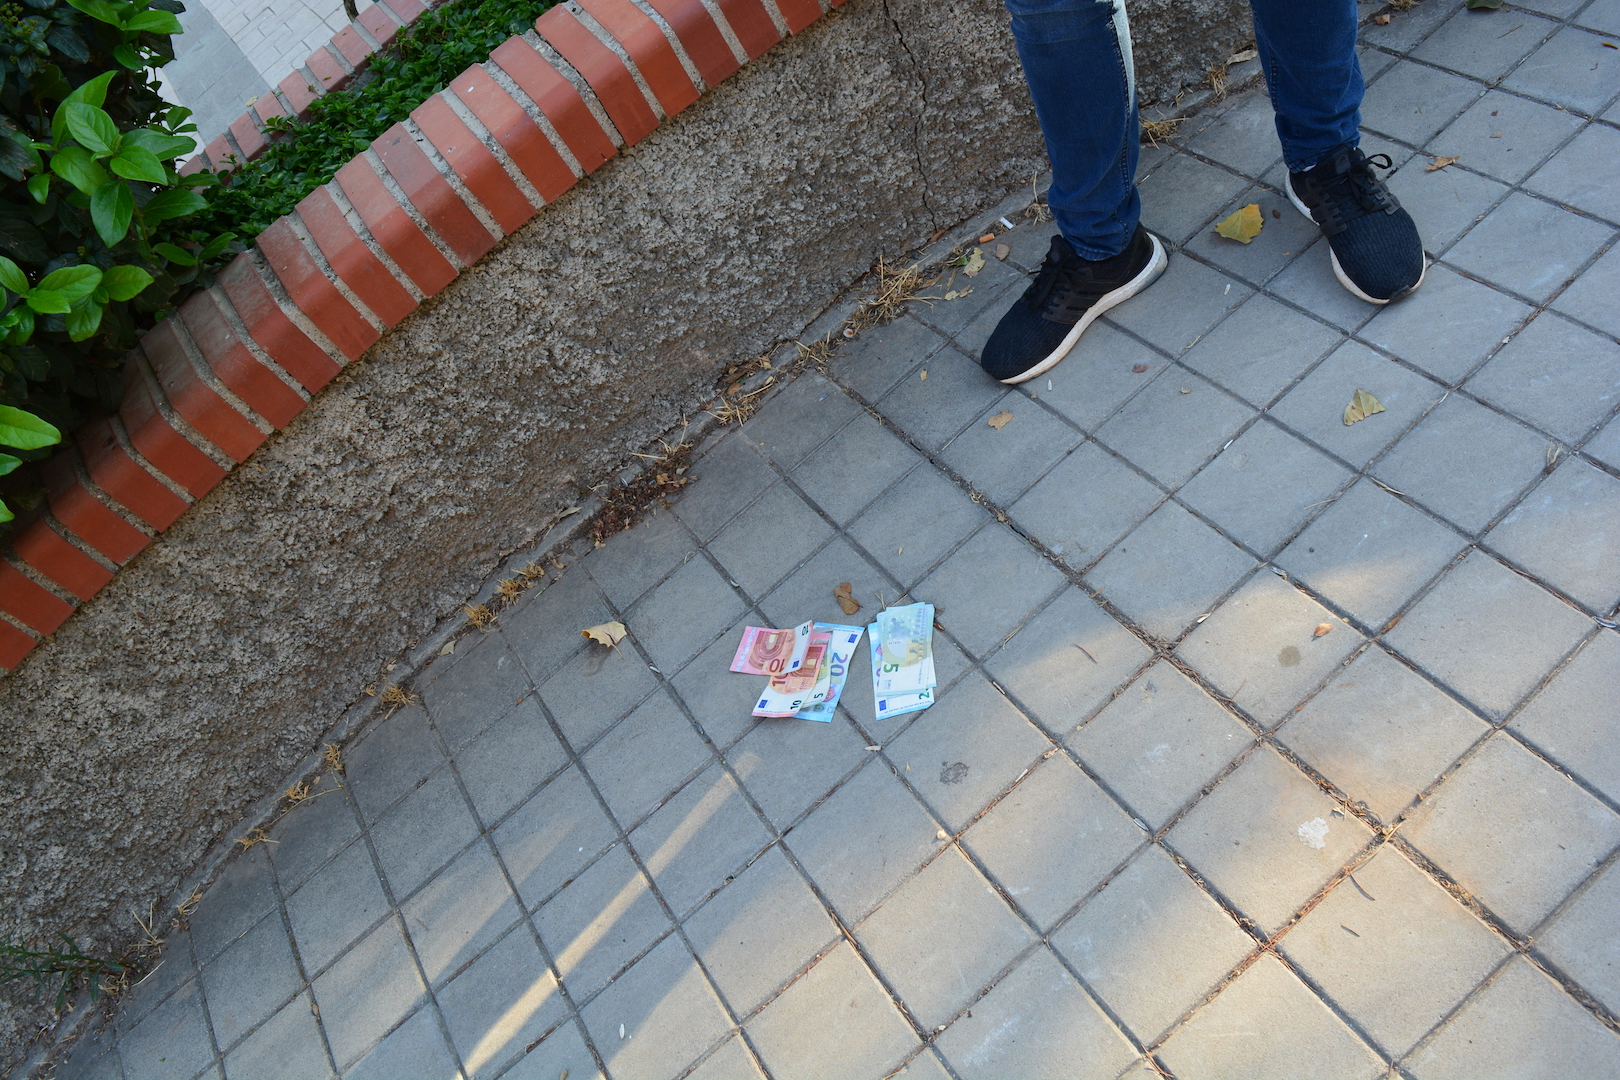billete: (726, 616, 863, 727), (867, 601, 940, 723)
